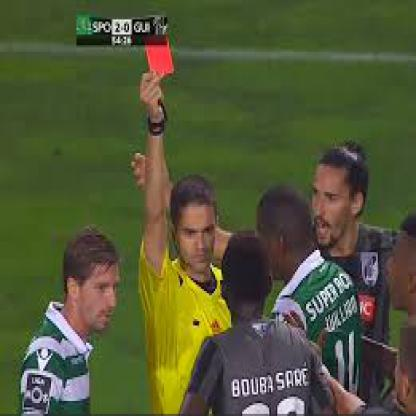foul: (133, 40, 189, 178)
